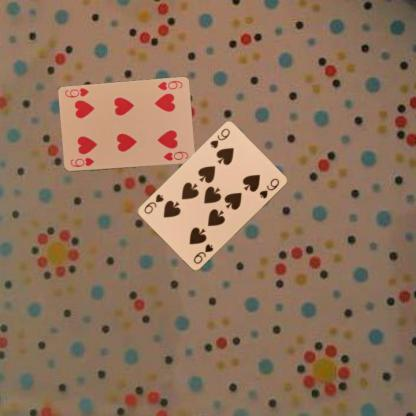6h: (155, 78, 184, 92), (68, 154, 96, 168)
9s: (190, 242, 214, 266), (208, 126, 231, 150)
